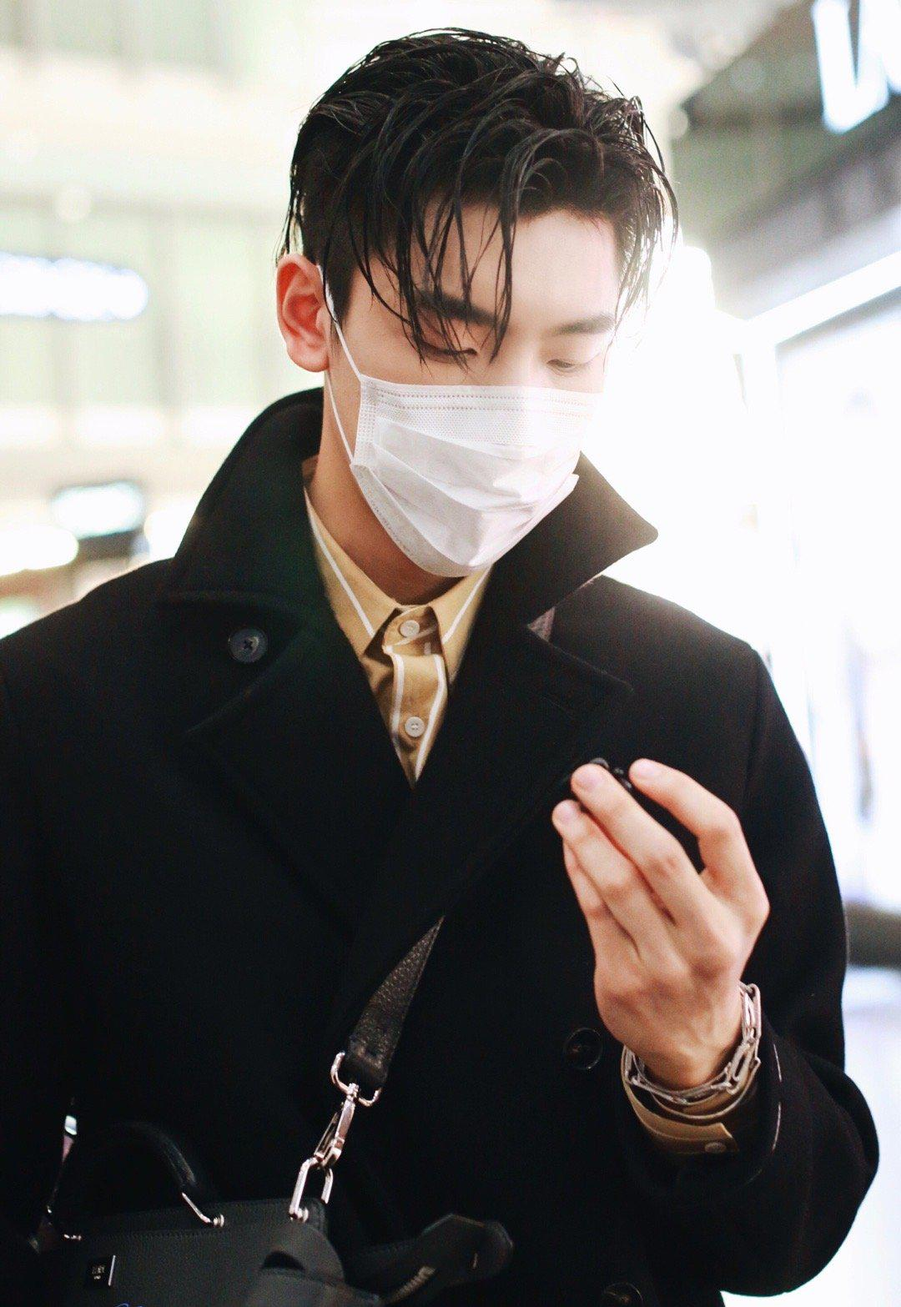OK: (345, 249, 612, 575)
